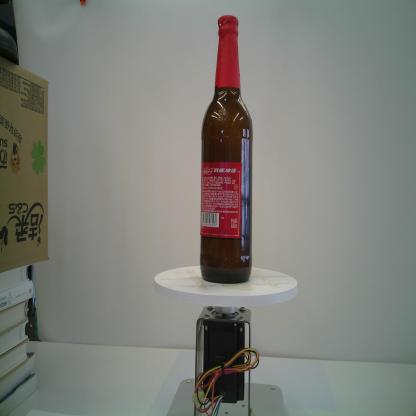Alcohol: (198, 14, 253, 285)
